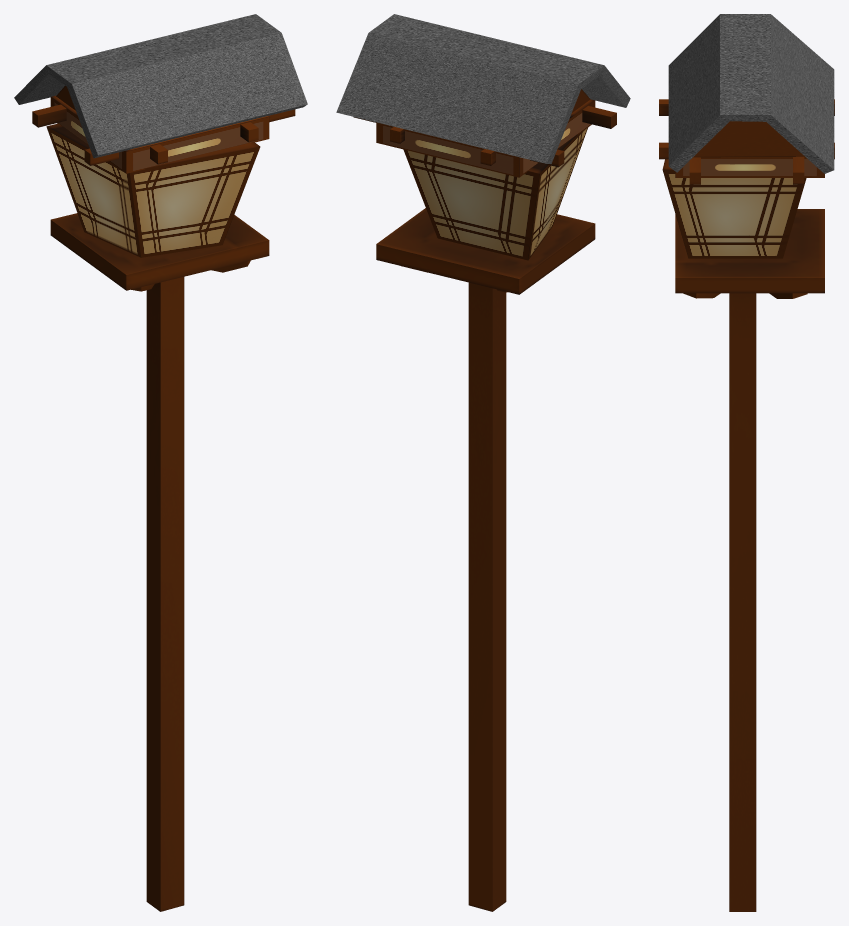
File: pole-lantern.FBX
The picture shows the model from 3 angles, left to right: view 1: azimuth 30°, elevation 25°; view 2: azimuth 150°, elevation 25°; view 3: azimuth 270°, elevation 25°; orthographic projection.
Parts seen in each view (by area): view 1: Box03, Object01; view 2: Box03, Object01; view 3: Box03, Object01.
Boxes of the visible parts, x1,y1,x2,y2 form: Box03: [32, 85, 295, 911]; Object01: [14, 14, 307, 158]; Box03: [353, 89, 616, 911]; Object01: [336, 14, 630, 163]; Box03: [659, 99, 834, 911]; Object01: [668, 14, 834, 173].
Size of the model in its own units: 0.16 by 0.6223 by 0.1176.
2 materials, 2 textured.
